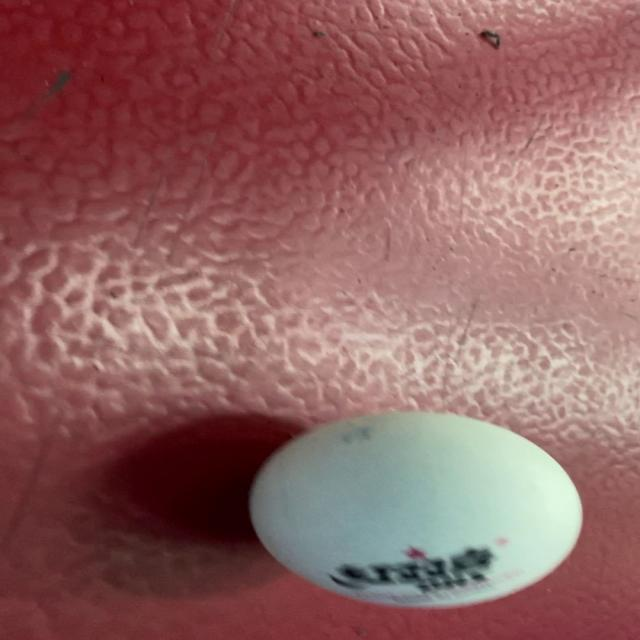ping-pong-ball: (228, 396, 600, 622)
